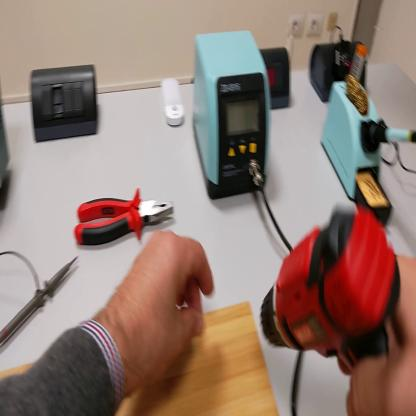electric screwdriver: (257, 204, 404, 376)
hand: (113, 228, 215, 389), (342, 251, 416, 416)
oscilloscope: (3, 92, 13, 194)
oscilloscope probe tip: (2, 254, 79, 347)
pliers: (74, 188, 173, 248)
socket: (311, 36, 371, 104), (261, 46, 294, 110)
welder base: (321, 40, 395, 231)
welder probe tip: (366, 120, 415, 150)
welder station: (193, 27, 272, 199)
